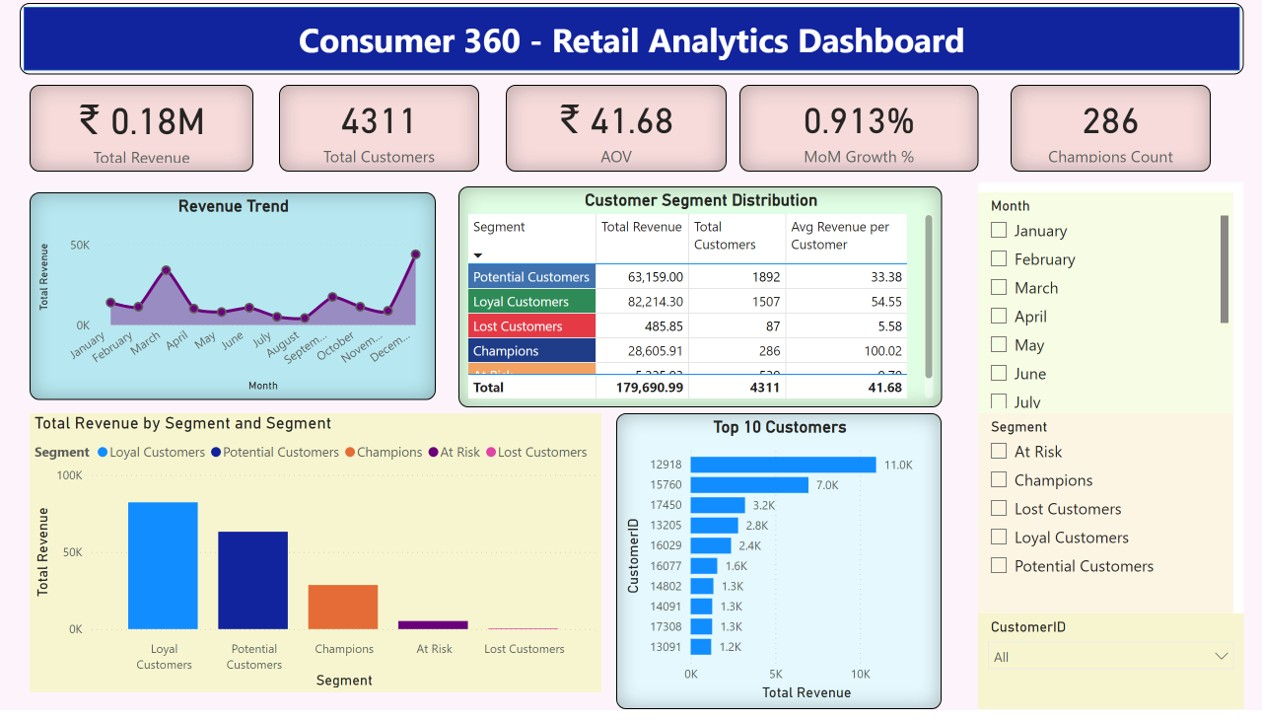

Layout of this report page (visuals, bound fields, positions):
{"tool":"powerbi","page":{"name":"Customer Segment","canvas":[1280,720],"ordinal":0},"visuals":[{"type":"shape","box":[19.7,3,1241.6,72.7],"z":0},{"type":"card","title":"Total Revenue","fields":{"Values":["KPI Measures.Total Revenue"]},"box":[30.3,86.3,227.1,87.8],"z":1},{"type":"card","fields":{"Values":["KPI Measures.Total Customers"]},"box":[283.2,86.3,202.9,87.8],"z":2},{"type":"card","fields":{"Values":["KPI Measures.Champions Count"]},"box":[1025.1,86.3,202.9,87.8],"z":3},{"type":"card","fields":{"Values":["KPI Measures.AOV"]},"box":[513.3,86.3,224.1,87.8],"z":4},{"type":"card","fields":{"Values":["KPI Measures.MoM Growth %"]},"box":[749.5,86.3,242.3,87.8],"z":5},{"type":"lineChart","title":"Revenue Trend","fields":{"Category":["fact_sales.InvoiceDate.Variation.Date Hierarchy.Month"],"Y":["KPI Measures.Total Revenue"]},"box":[30.3,195.3,411.9,210.5],"z":6},{"type":"tableEx","title":"Customer Segment Distribution","fields":{"Values":["rfm_customer_segments.Segment","KPI Measures.Total Revenue","KPI Measures.Total Customers","KPI Measures.Avg Revenue per Customer"]},"box":[464.9,189.3,490.6,224.1],"z":7},{"type":"barChart","title":"Top 10 Customers","fields":{"Category":["rfm_customer_segments.CustomerID"],"Y":["KPI Measures.Total Revenue"]},"box":[625.4,419.4,330.1,299.8],"z":10},{"type":"textbox","box":[991.8,184.7,269.5,534.5],"z":12},{"type":"slicer","fields":{"Values":["rfm_customer_segments.Segment"]},"box":[991.8,419.4,258.9,202.9],"z":13},{"type":"slicer","fields":{"Values":["retail_sales_cleaned.CustomerID"]},"box":[991.8,622.3,269.5,96.9],"z":14},{"type":"columnChart","fields":{"Series":["rfm_customer_segments.Segment"],"Y":["KPI Measures.Total Revenue"],"Category":["rfm_customer_segments.Segment"]},"box":[30.3,419.4,579.9,283.2],"z":15},{"type":"slicer","fields":{"Values":["fact_sales.InvoiceDate.Variation.Date Hierarchy.Month"]},"box":[991.8,195.3,258.9,224.1],"z":16}]}

Visuals, with their boxes in screenshot pixels (x1, y1, x2, y2), scaled from the page's 1280x720 canvas onto the 1262x720 screenshot:
shape: select_region(19, 3, 1244, 76)
"Total Revenue" card: select_region(30, 86, 254, 174)
card - KPI Measures.Total Customers: select_region(279, 86, 479, 174)
card - KPI Measures.Champions Count: select_region(1011, 86, 1211, 174)
card - KPI Measures.AOV: select_region(506, 86, 727, 174)
card - KPI Measures.MoM Growth %: select_region(739, 86, 978, 174)
"Revenue Trend" lineChart: select_region(30, 195, 436, 406)
"Customer Segment Distribution" tableEx: select_region(458, 189, 942, 413)
"Top 10 Customers" barChart: select_region(617, 419, 942, 719)
textbox: select_region(978, 185, 1244, 719)
slicer - rfm_customer_segments.Segment: select_region(978, 419, 1233, 622)
slicer - retail_sales_cleaned.CustomerID: select_region(978, 622, 1244, 719)
columnChart - rfm_customer_segments.Segment x KPI Measures.Total Revenue: select_region(30, 419, 602, 703)
slicer - fact_sales.InvoiceDate.Variation.Date Hierarchy.Month: select_region(978, 195, 1233, 419)
